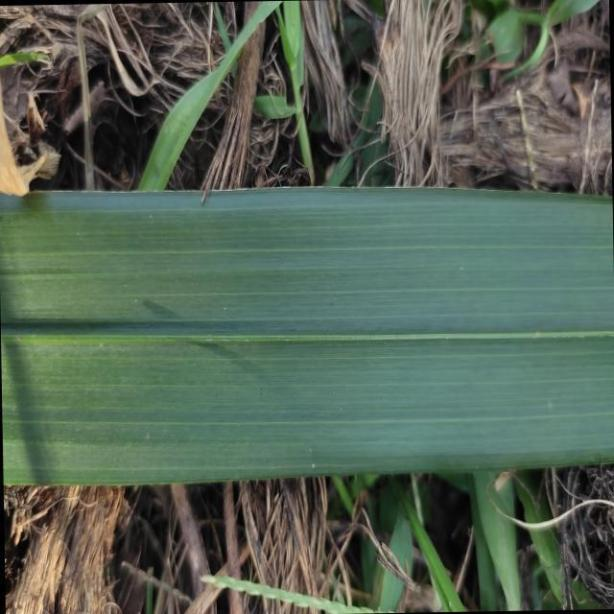Healthy: (1, 193, 614, 484)
